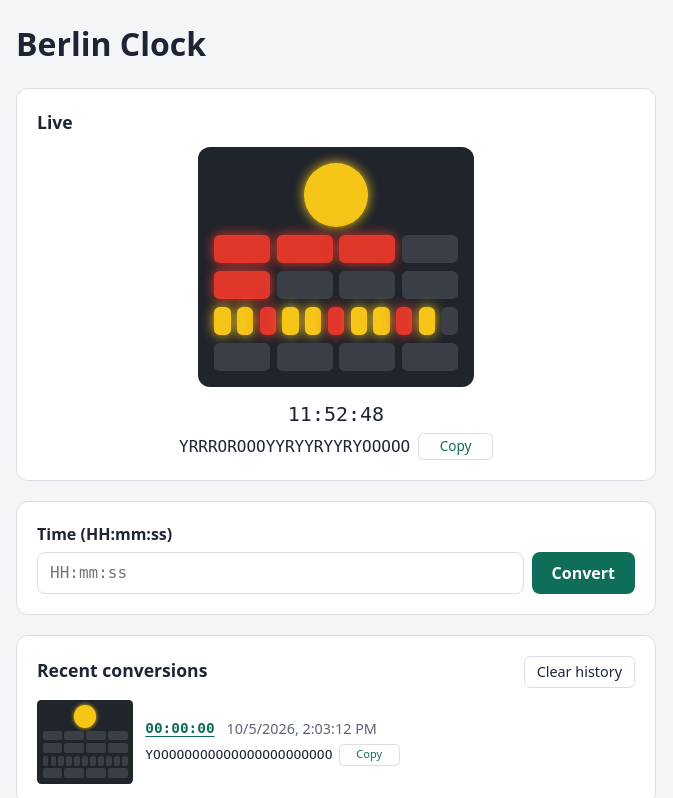
Test: Converting a time › adds the conversion to the top of the recent conversions
The image size is (673, 798).
expect the link "00:00:00" is shown: met, box [145,718,215,740]
Type "23:59:59" into the field labelled "Time (HH:mm:ss)" at (280, 573), box [37,552,524,594]
Then press Enter
(page scrolled)
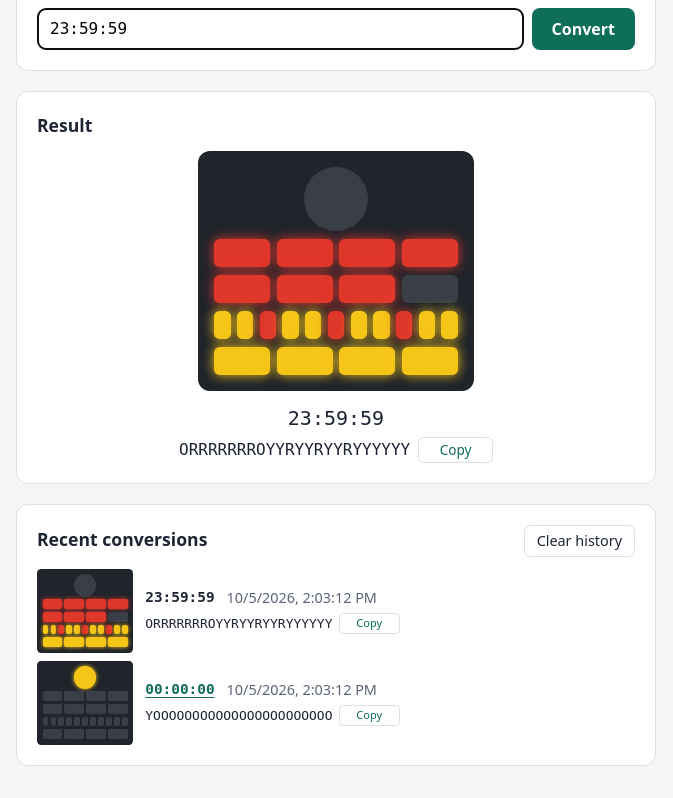
expect the link "23:59:59" is shown: met, box [145,587,215,609]
